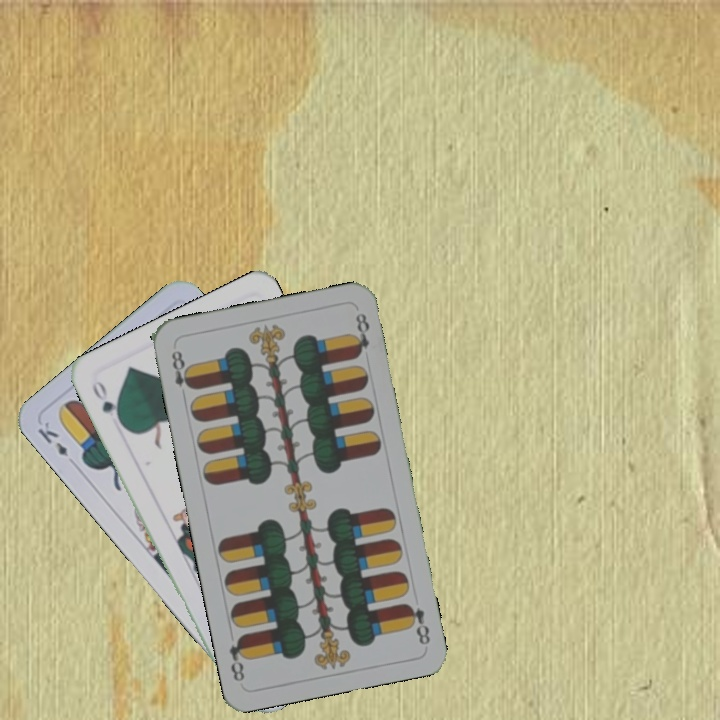E8: (167, 346, 196, 402), (402, 599, 433, 648)
EK: (33, 417, 71, 460)
GO: (88, 376, 126, 429)
